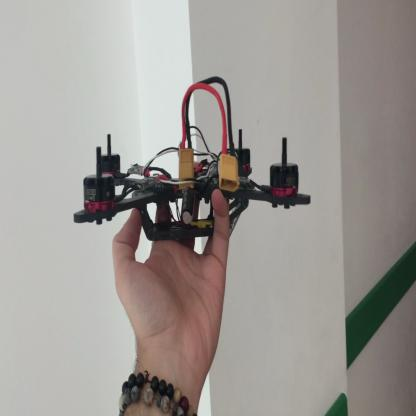drone: (73, 118, 317, 254)
